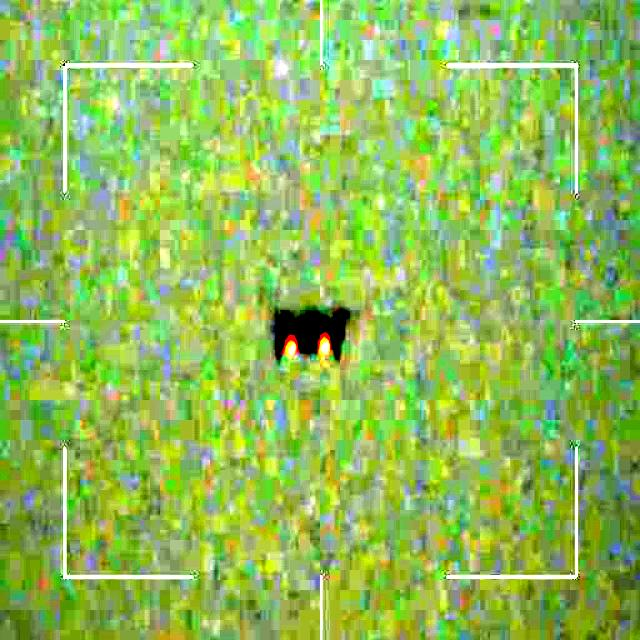bird: (271, 305, 354, 364)
